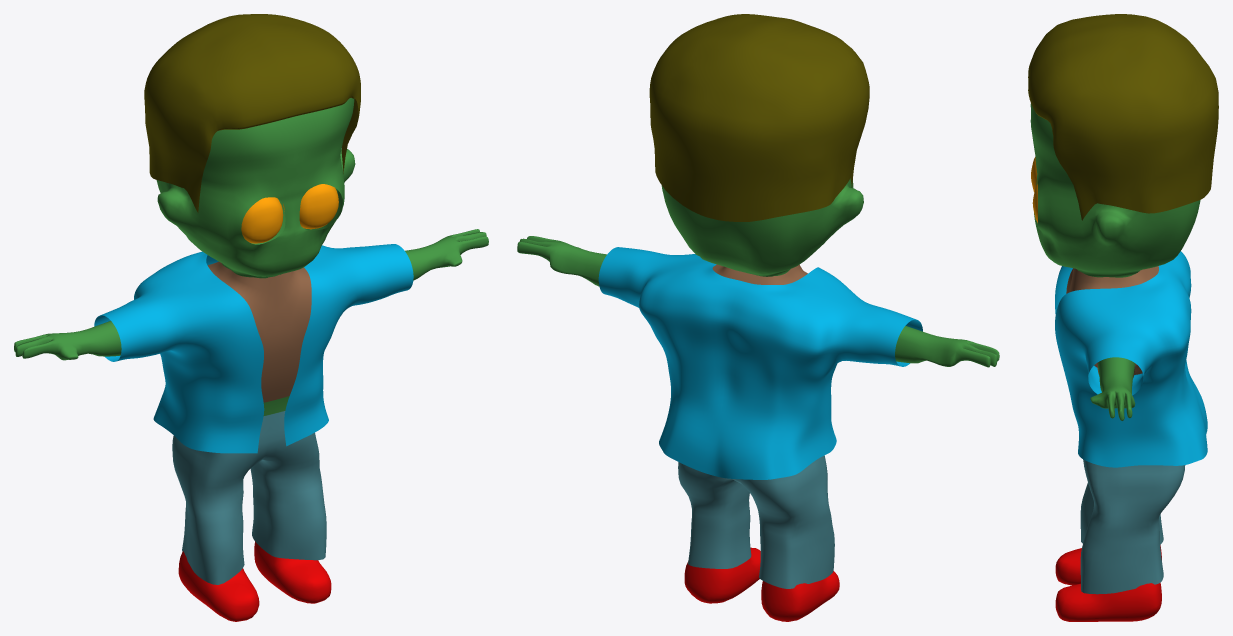
Rendered from frankie_smooth_lo.fbx.
3 views of the same model, side by side, from view 1: azimuth 30°, elevation 25°; view 2: azimuth 150°, elevation 25°; view 3: azimuth 270°, elevation 25° (orthographic).
Parts seen in each view (by area): view 1: jacket1_lo, Frankie_frankie_base_lo, Hair_lo, pants1_lo, shirt1_lo, shoe_r_lo, shoe_l_lo, eye_r_lo, eye_l_lo; view 2: jacket1_lo, Hair_lo, pants1_lo, Frankie_frankie_base_lo, shoe_l_lo, shoe_r_lo, shirt1_lo; view 3: Hair_lo, jacket1_lo, Frankie_frankie_base_lo, pants1_lo, shoe_l_lo, shirt1_lo, shoe_r_lo.
Part boxes in pixels (x1,y1,x2,y2): jacket1_lo: (94,244,413,453); Frankie_frankie_base_lo: (14,98,488,415); Hair_lo: (144,14,360,212); pants1_lo: (172,411,326,584); shirt1_lo: (207,261,311,402); shoe_r_lo: (178,551,259,621); shoe_l_lo: (254,541,331,603); eye_r_lo: (241,197,283,243); eye_l_lo: (283,184,338,229); jacket1_lo: (598,247,922,479); Hair_lo: (649,14,869,221); pants1_lo: (678,455,834,588); Frankie_frankie_base_lo: (517,178,999,367); shoe_l_lo: (684,547,760,603); shoe_r_lo: (761,571,839,621); shirt1_lo: (712,264,807,284); Hair_lo: (1028,14,1218,220); jacket1_lo: (1055,251,1207,467); Frankie_frankie_base_lo: (1030,104,1200,420); pants1_lo: (1080,459,1185,594); shoe_l_lo: (1055,582,1161,621); shirt1_lo: (1066,266,1158,377); shoe_r_lo: (1055,545,1161,585).
Size of the model in its own units: 134 by 154 by 46.6.
